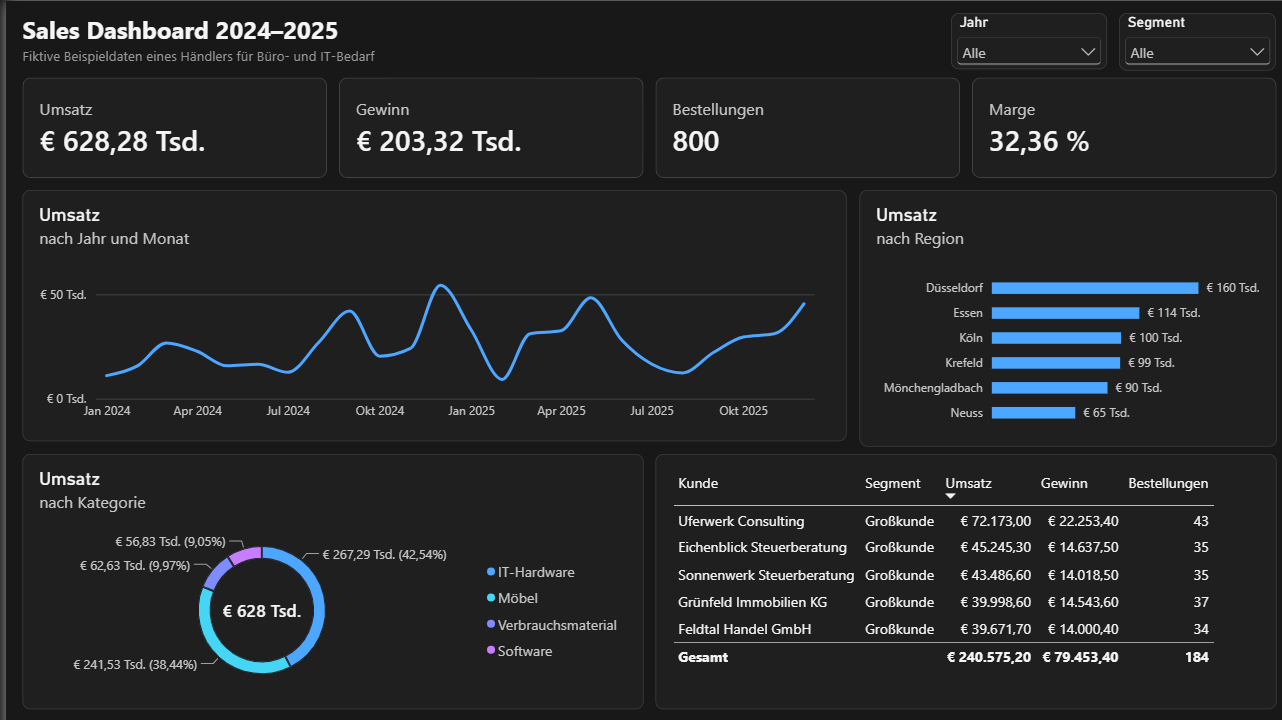

The dashboard page shown, as its layout file describes it:
{"tool":"powerbi","page":{"name":"Seite 1","canvas":[1920,1080],"ordinal":0},"visuals":[{"type":"cardVisual","fields":{"Data":["Sum(public orders.revenue)"]},"box":[16,76,303,100],"z":0},{"type":"cardVisual","fields":{"Data":["Sum(public orders.profit)"]},"box":[331,76.7,303.3,100],"z":1},{"type":"cardVisual","fields":{"Data":["CountNonNull(public orders.order_id)"]},"box":[646,76,303,100],"z":2},{"type":"cardVisual","fields":{"Data":["public orders.Marge"]},"box":[961,76,303,100],"z":3},{"type":"lineChart","fields":{"Category":["public orders.order_date.Variation.Datumshierarchie.Jahr","public orders.order_date.Variation.Datumshierarchie.Monat"],"Y":["Sum(public orders.revenue)"]},"box":[16,188,820,250],"z":4},{"type":"barChart","fields":{"Category":["public customers.region"],"Y":["Sum(public orders.revenue)"]},"box":[848.6,187.5,415.3,255.6],"z":5},{"type":"donutChart","fields":{"Category":["public products.category"],"Y":["Sum(public orders.revenue)"]},"box":[16,450,618,254],"z":6},{"type":"tableEx","fields":{"Values":["public customers.name","public customers.segment","Sum(public orders.revenue)","Sum(public orders.profit)","public orders.Bestellungen"]},"box":[646,450,618,254],"z":7},{"type":"slicer","fields":{"Values":["public orders.order_date.Variation.Datumshierarchie.Jahr"]},"box":[940,12,155,56],"z":8},{"type":"slicer","fields":{"Values":["public customers.segment"]},"box":[1108,12,156,57],"z":9},{"type":"textbox","box":[16.4,11.9,364.2,56.7],"z":12}]}

Visuals, with their boxes in screenshot pixels (x1, y1, x2, y2), scaled from the page's 1920x1080 canvas onto the 1282x720 screenshot:
cardVisual - Sum(public orders.revenue): l=11, t=51, r=213, b=117
cardVisual - Sum(public orders.profit): l=221, t=51, r=424, b=118
cardVisual - CountNonNull(public orders.order_id): l=431, t=51, r=634, b=117
cardVisual - public orders.Marge: l=642, t=51, r=844, b=117
lineChart - public orders.order_date.Variation.Datumshierarchie.Jahr x public orders.order_date.Variation.Datumshierarchie.Monat: l=11, t=125, r=558, b=292
barChart - public customers.region x Sum(public orders.revenue): l=567, t=125, r=844, b=295
donutChart - public products.category x Sum(public orders.revenue): l=11, t=300, r=423, b=469
tableEx - public customers.name x public customers.segment: l=431, t=300, r=844, b=469
slicer - public orders.order_date.Variation.Datumshierarchie.Jahr: l=628, t=8, r=731, b=45
slicer - public customers.segment: l=740, t=8, r=844, b=46
textbox: l=11, t=8, r=254, b=46
